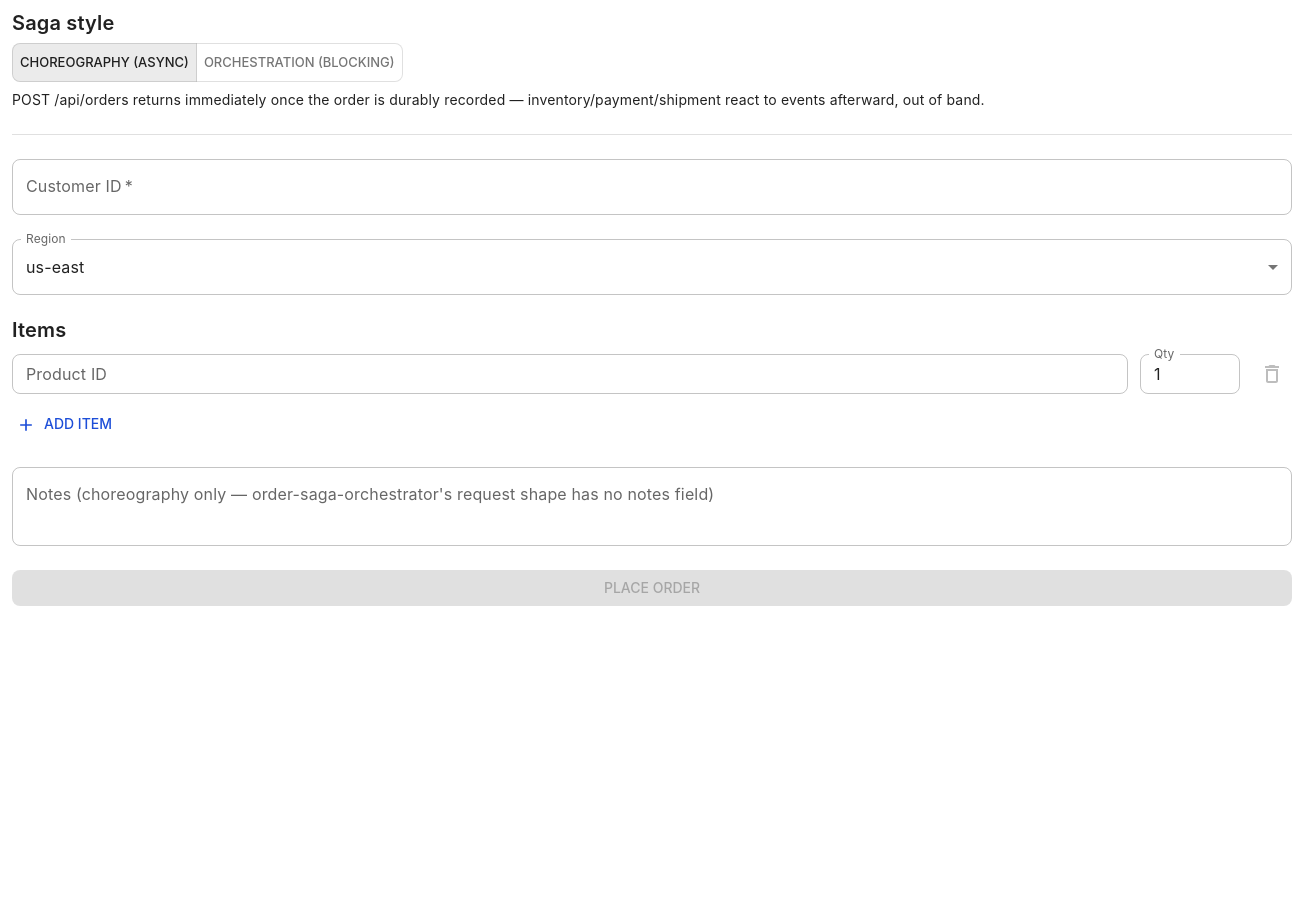
Test: PlaceOrderForm › submits to the choreography endpoint (POST /api/orders) and shows the accepted status
Type "cust-1" into the field labelled "Customer ID *" at (652, 187), box x1=12 y1=159 x2=1292 y2=215
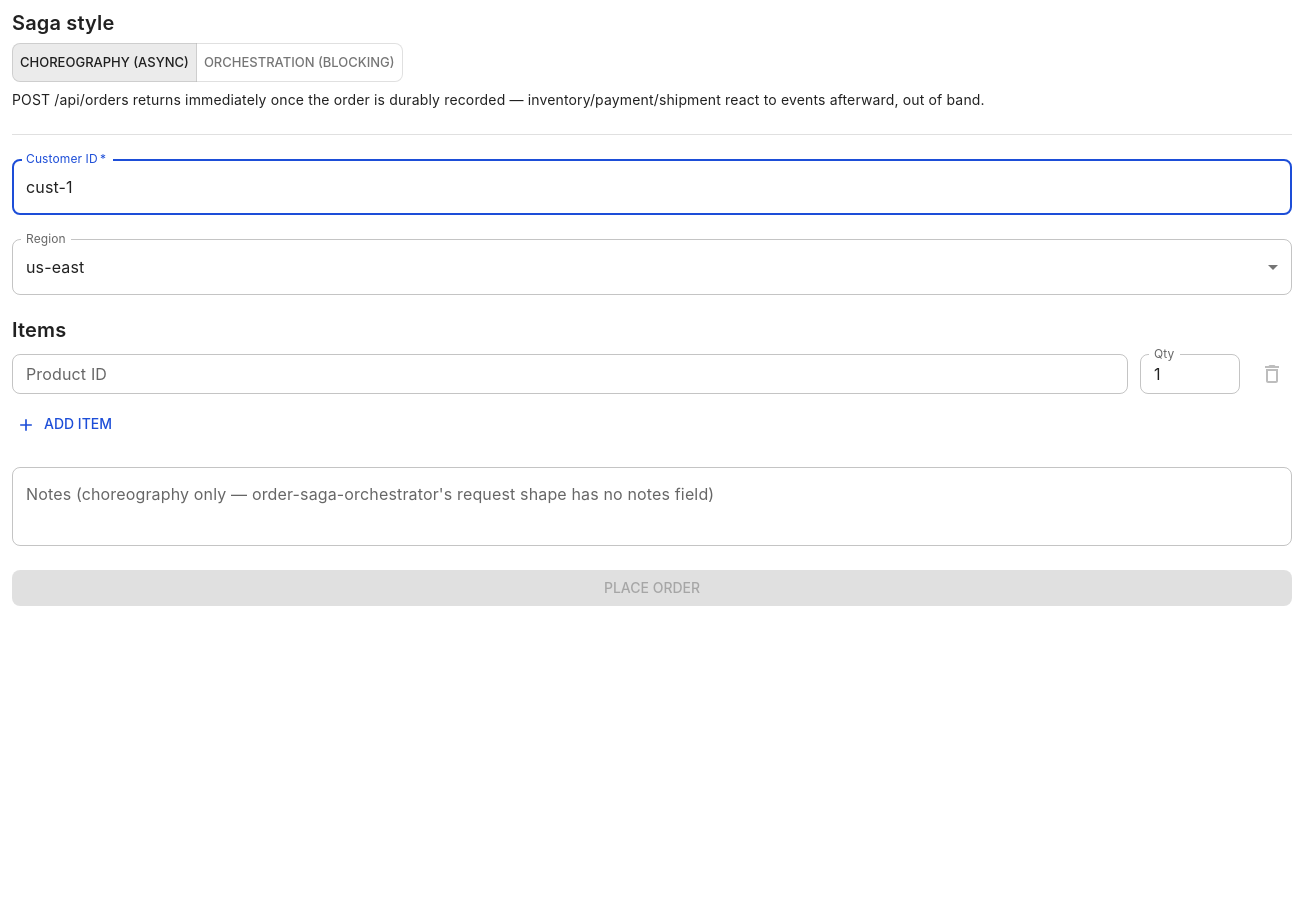
Type "sku-1" into the field labelled "Product ID" at (570, 374), box x1=12 y1=354 x2=1128 y2=394
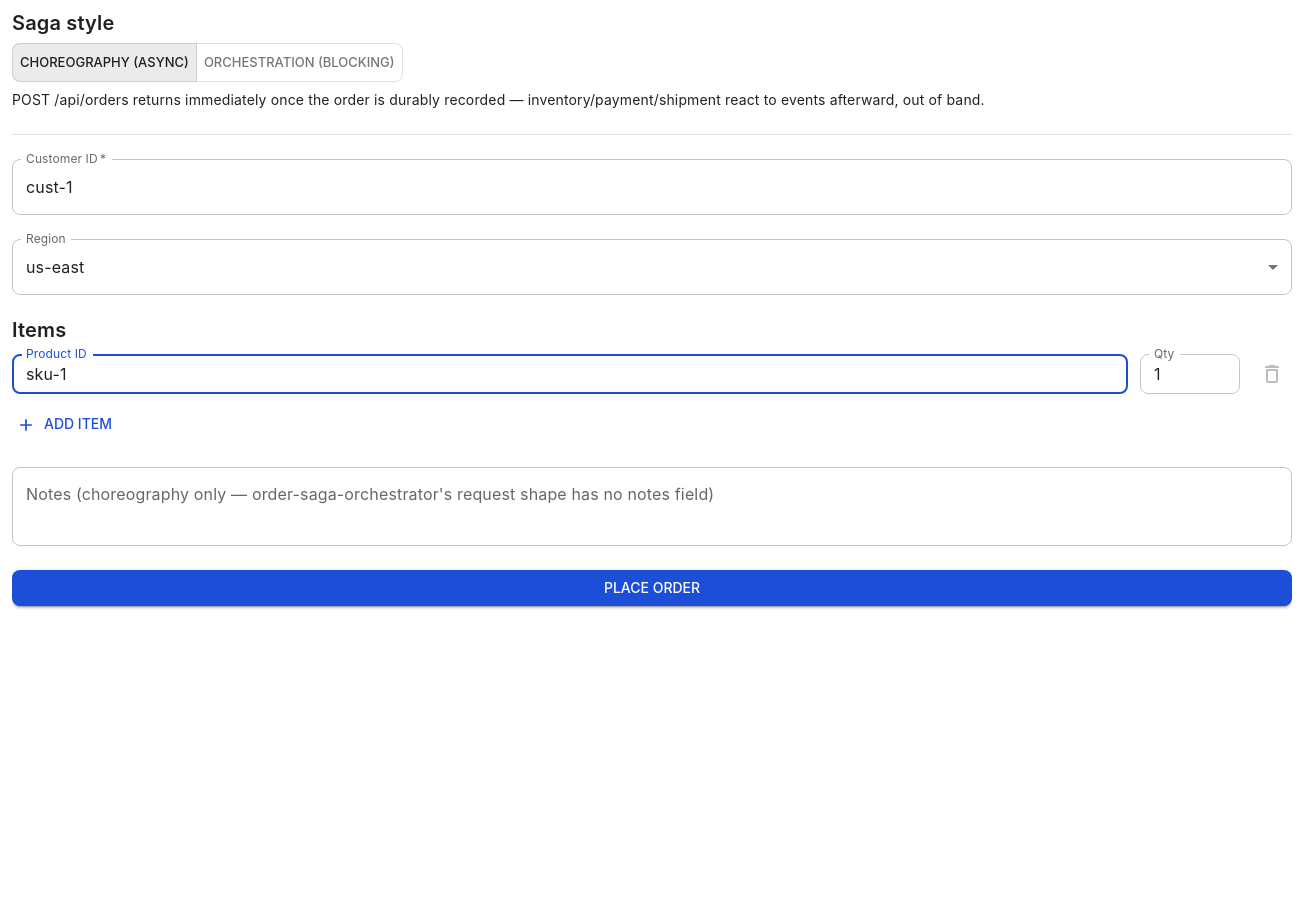
Click the button "Place order" at (652, 588), box x1=12 y1=570 x2=1292 y2=606
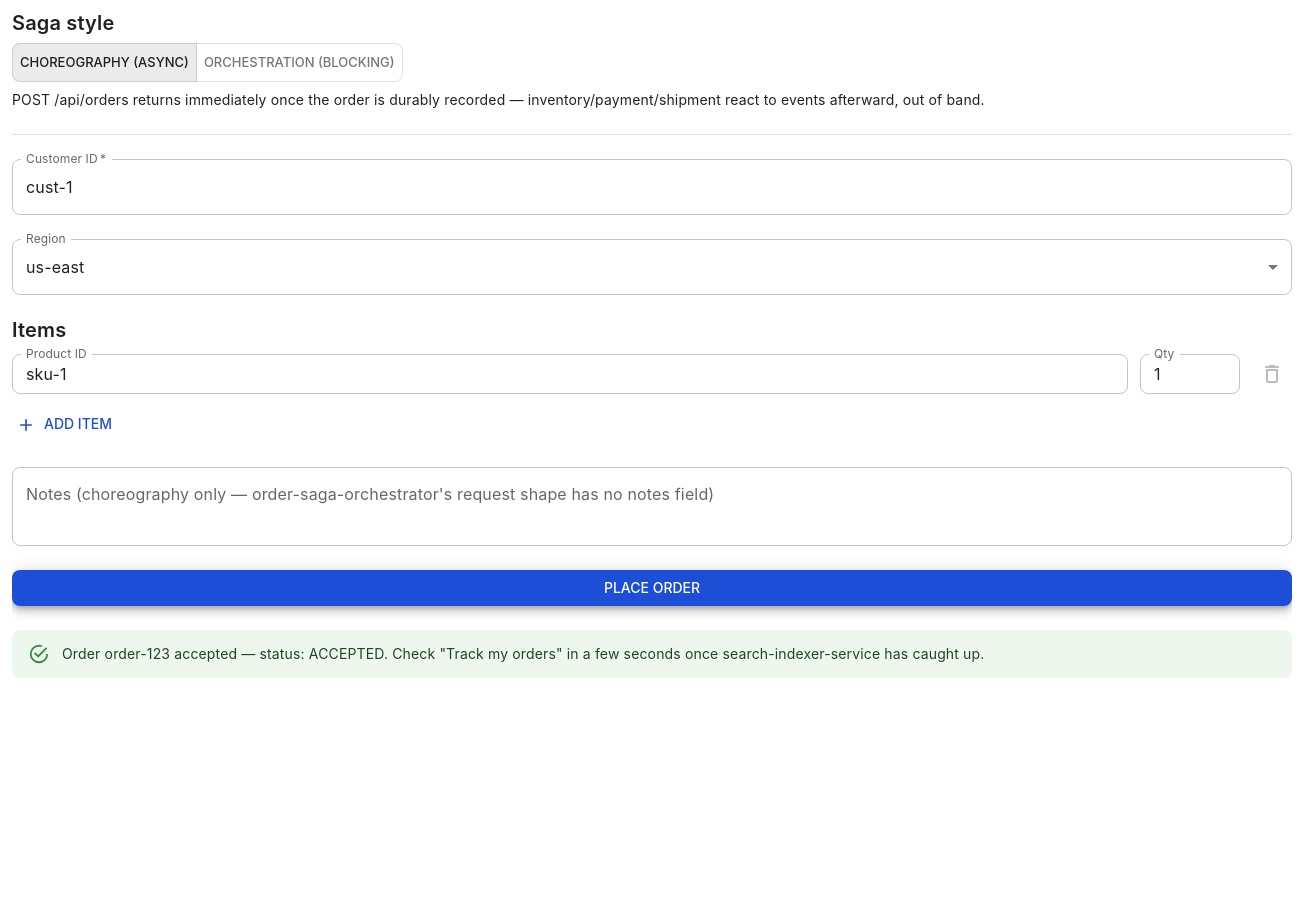
Expected: the text "accepted" is shown, x1=62 y1=645 x2=984 y2=662
